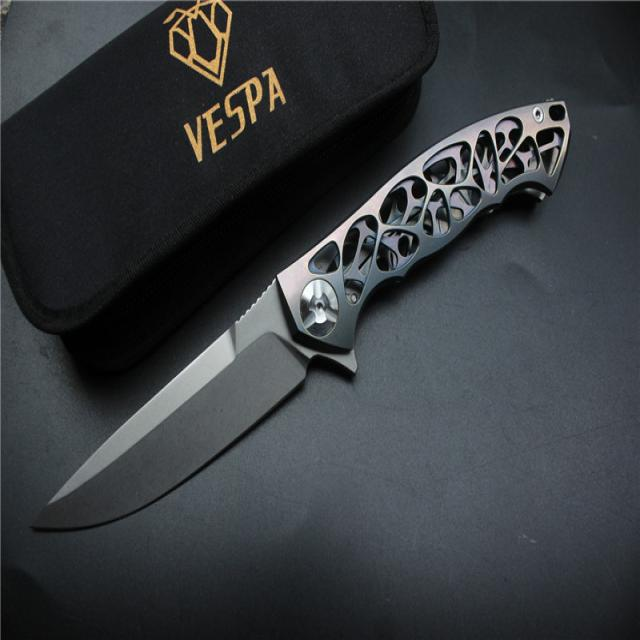knife: (23, 94, 575, 536)
